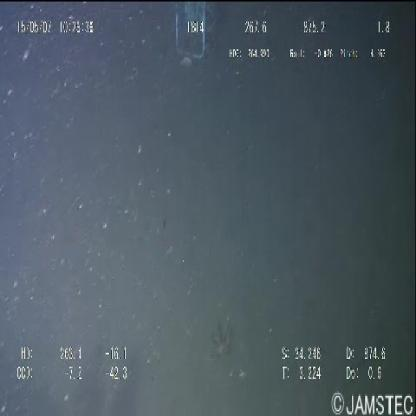Rác: (172, 1, 210, 68)
